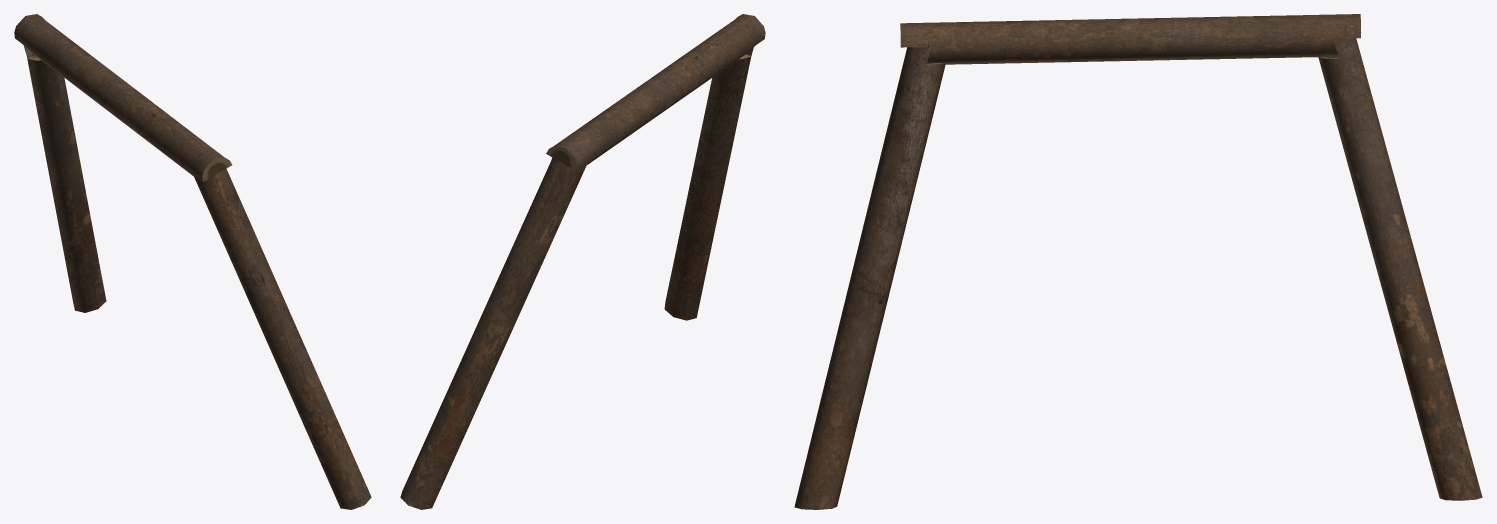
The model's file is ThreeSupportComposite.glb.
3 views of the same model, side by side, from view 1: azimuth 30°, elevation 25°; view 2: azimuth 150°, elevation 25°; view 3: azimuth 270°, elevation 25° (orthographic). The views are drawn at different scales.
Visible parts, largest first — view 1: TS_Lo_R, TS_Lo_up, TS_Lo_L; view 2: TS_Lo_L, TS_Lo_R, TS_Lo_up; view 3: TS_Lo_L, TS_Lo_R, TS_Lo_up.
Part boxes in pixels (x1,y1,x2,y2): TS_Lo_R: [191, 168, 371, 509]; TS_Lo_up: [14, 14, 232, 181]; TS_Lo_L: [23, 45, 106, 312]; TS_Lo_L: [400, 157, 587, 509]; TS_Lo_R: [664, 44, 753, 320]; TS_Lo_up: [546, 14, 765, 170]; TS_Lo_L: [1318, 38, 1482, 500]; TS_Lo_R: [794, 44, 945, 509]; TS_Lo_up: [900, 14, 1361, 64].
Bounding box in the file's own units: 0.8835 × 2.23 × 3.2.
Materials: 1 (1 with a texture image).
